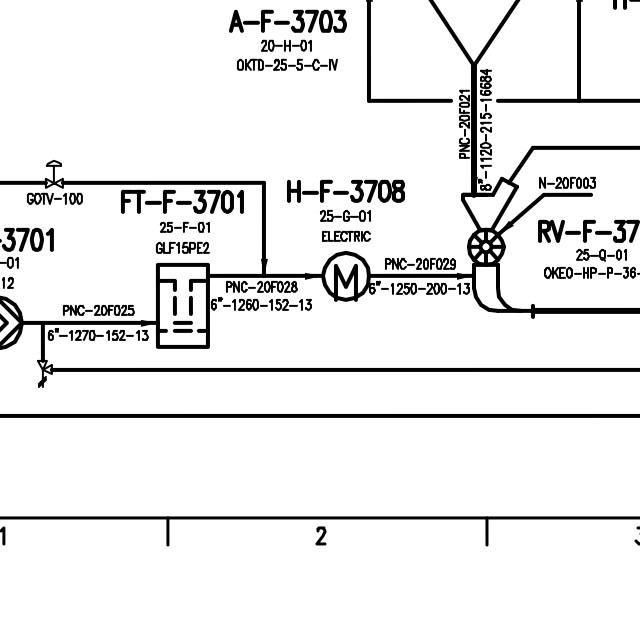FT1: (149, 256, 214, 352)
HE: (320, 249, 373, 303)
RV2: (459, 175, 522, 319)
